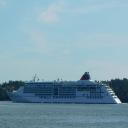cruises: (7, 72, 124, 106)
